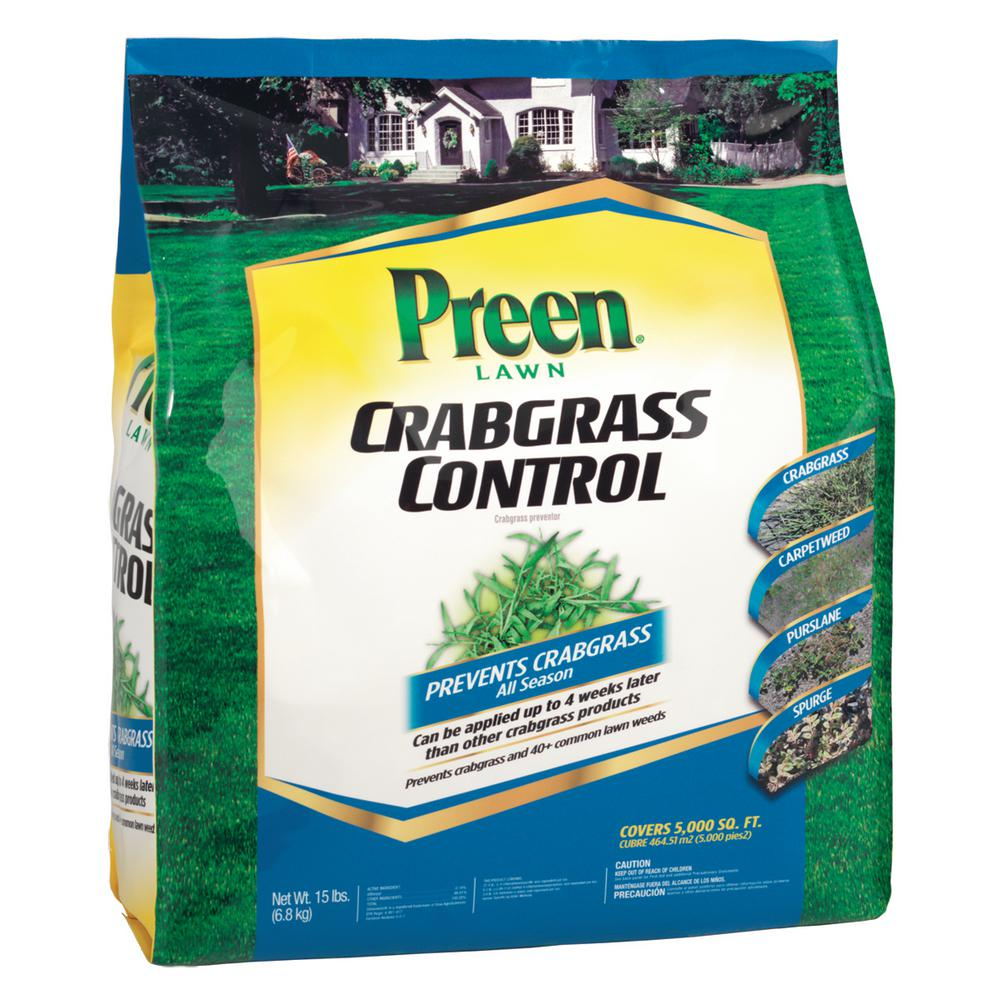crabgrass: (406, 529, 667, 670)
